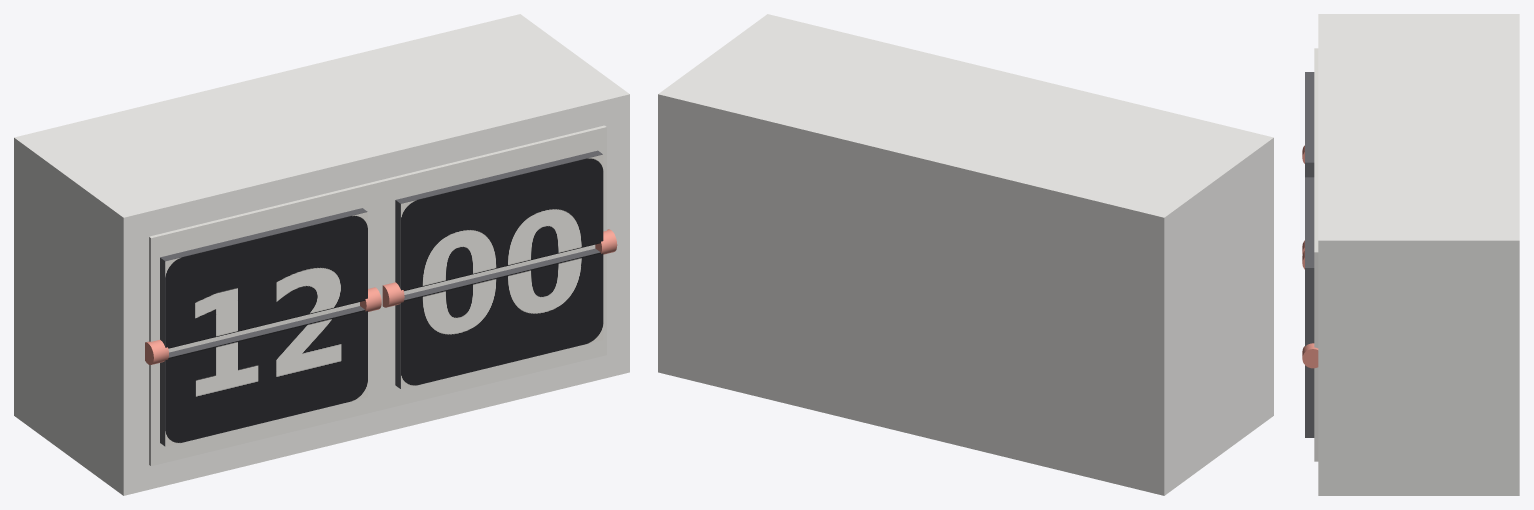
The model's file is clock.glb.
3 renders of one model, left to right at view 1: azimuth 30°, elevation 25°; view 2: azimuth 150°, elevation 25°; view 3: azimuth 270°, elevation 25°, orthographic. The views are drawn at different scales.
Visible parts, largest first — view 1: body_1, front_panel_2, face_bot_h_6, face_top_m_11, face_bot_m_12, face_top_h_5, slab_top_h_3, slab_top_m_9, slab_bot_m_10, slab_bot_h_4; view 2: body_1; view 3: body_1, front_panel_2, slab_top_m_9, slab_top_h_3, slab_bot_m_10, pin_m_1_14.
Part boxes in pixels (x1,y1,x2,y2): body_1: (14,14,629,495); front_panel_2: (149,125,606,466); face_bot_h_6: (165,310,367,446); face_top_m_11: (401,154,603,290); face_bot_m_12: (401,252,603,389); face_top_h_5: (165,212,367,348); slab_top_h_3: (160,208,367,346); slab_top_m_9: (395,150,602,289); slab_bot_m_10: (395,248,600,388); slab_bot_h_4: (160,306,364,446); body_1: (658,14,1273,495); body_1: (1318,14,1519,495); front_panel_2: (1314,48,1318,461); slab_top_m_9: (1305,177,1314,346); slab_top_h_3: (1305,72,1314,177); slab_bot_m_10: (1305,365,1314,437); pin_m_1_14: (1302,343,1318,368).
Size of the model in its own units: 0.2 by 0.113 by 0.081.
Materials: 6 (2 with a texture image).
